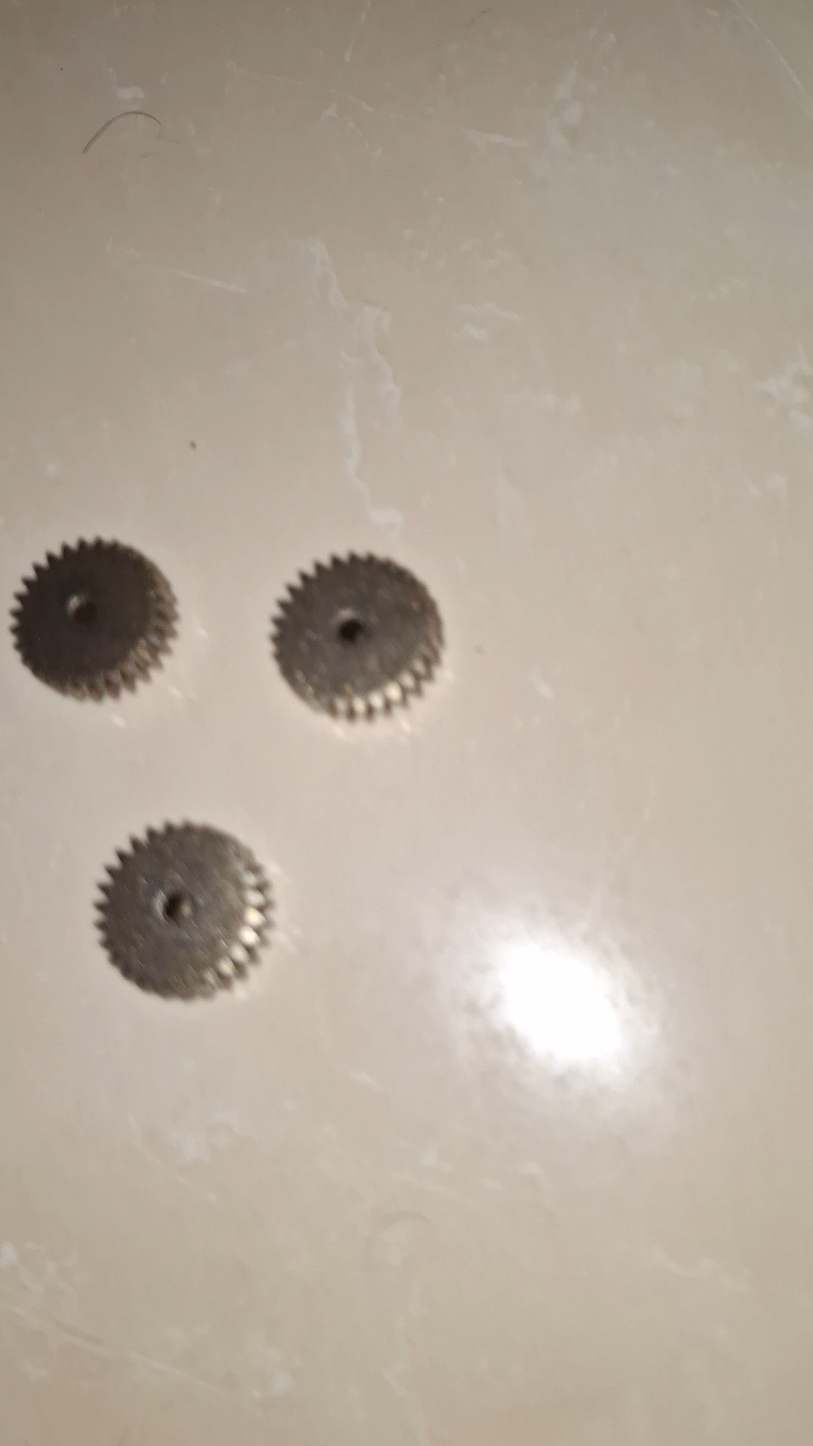spur gear: (97, 823, 270, 998), (272, 554, 443, 719), (12, 539, 177, 699)
